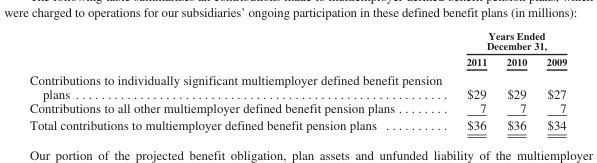table: (28, 29, 566, 131)
table column: (28, 29, 453, 131), (453, 29, 496, 131), (496, 29, 536, 131), (536, 29, 566, 131)
table column header: (28, 29, 566, 69)
table row: (28, 69, 566, 100), (28, 29, 566, 53), (28, 53, 566, 69), (28, 100, 566, 116), (28, 116, 566, 131)
table spanning cell: (453, 29, 566, 53)
